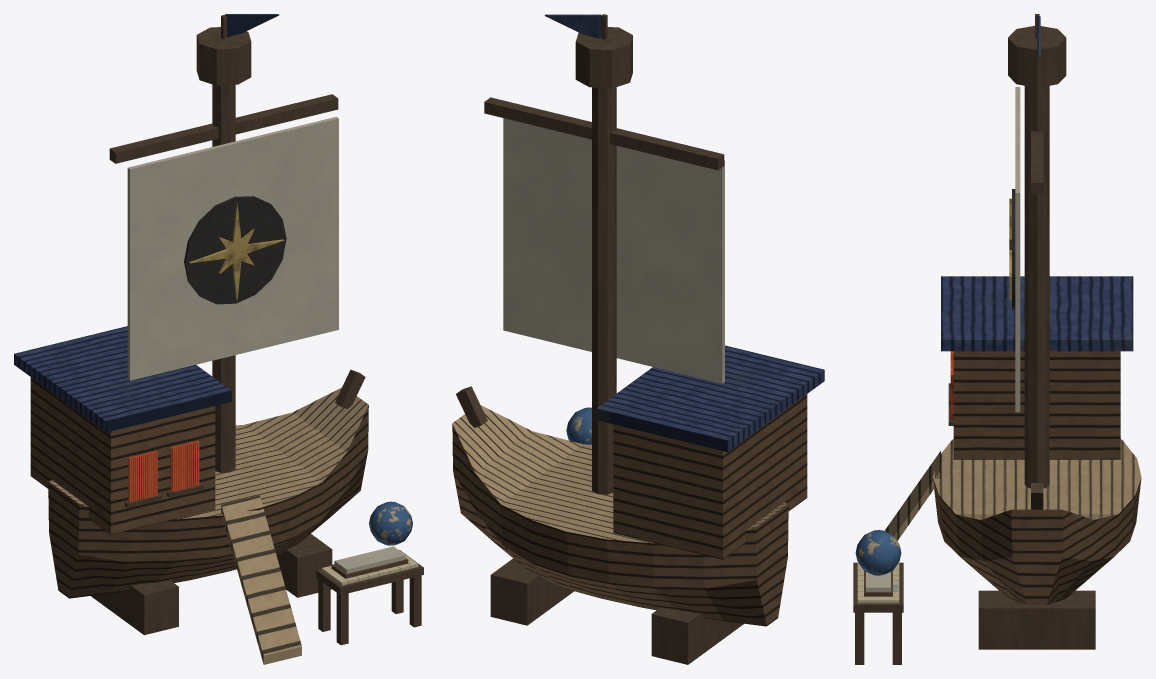
File: 상점_항해일지.fbx
3 renders of one model, left to right at view 1: azimuth 30°, elevation 25°; view 2: azimuth 150°, elevation 25°; view 3: azimuth 270°, elevation 25°, orthographic. The views are drawn at different scales.
Parts seen in each view (by area): view 1: 상점_항해일지; view 2: 상점_항해일지; view 3: 상점_항해일지.
Part boxes in pixels (x1,y1,x2,y2): 상점_항해일지: (14, 14, 423, 664); 상점_항해일지: (452, 14, 824, 664); 상점_항해일지: (853, 14, 1141, 664).
Bounding box in the file's own units: 868 × 1570 × 690.
11 materials, 11 textured.
